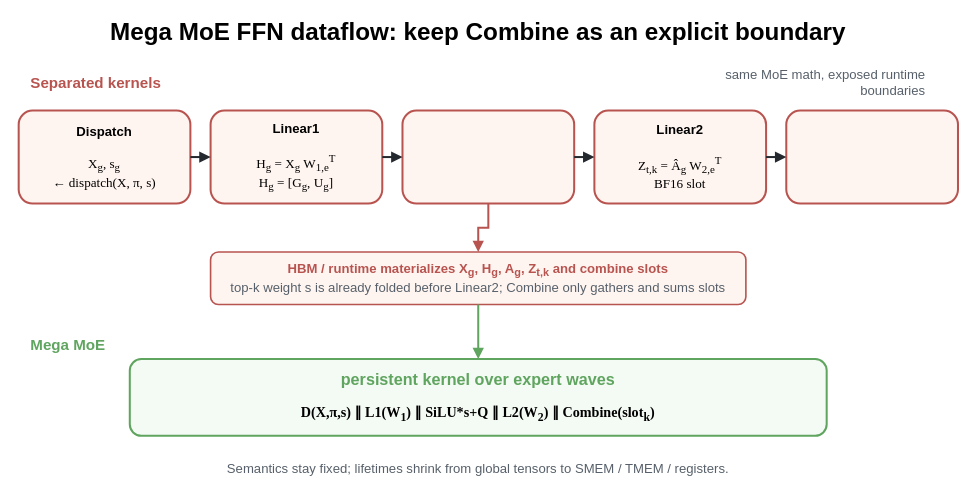
This 976x499 diagram has some shape labels left out. Here are the shapes that lost their labels. From the top down, the centre of each, then its label:
At point 488,156: "SwiGLU + s A g = SiLU(G g ) ⊙ U g A g ← A g · s g".
At point 871,156: "Combine Y = Combine(Z, handle) Y t = Σ k Z t,k".
